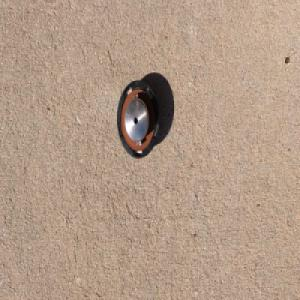FuelCap: (115, 77, 160, 160)
